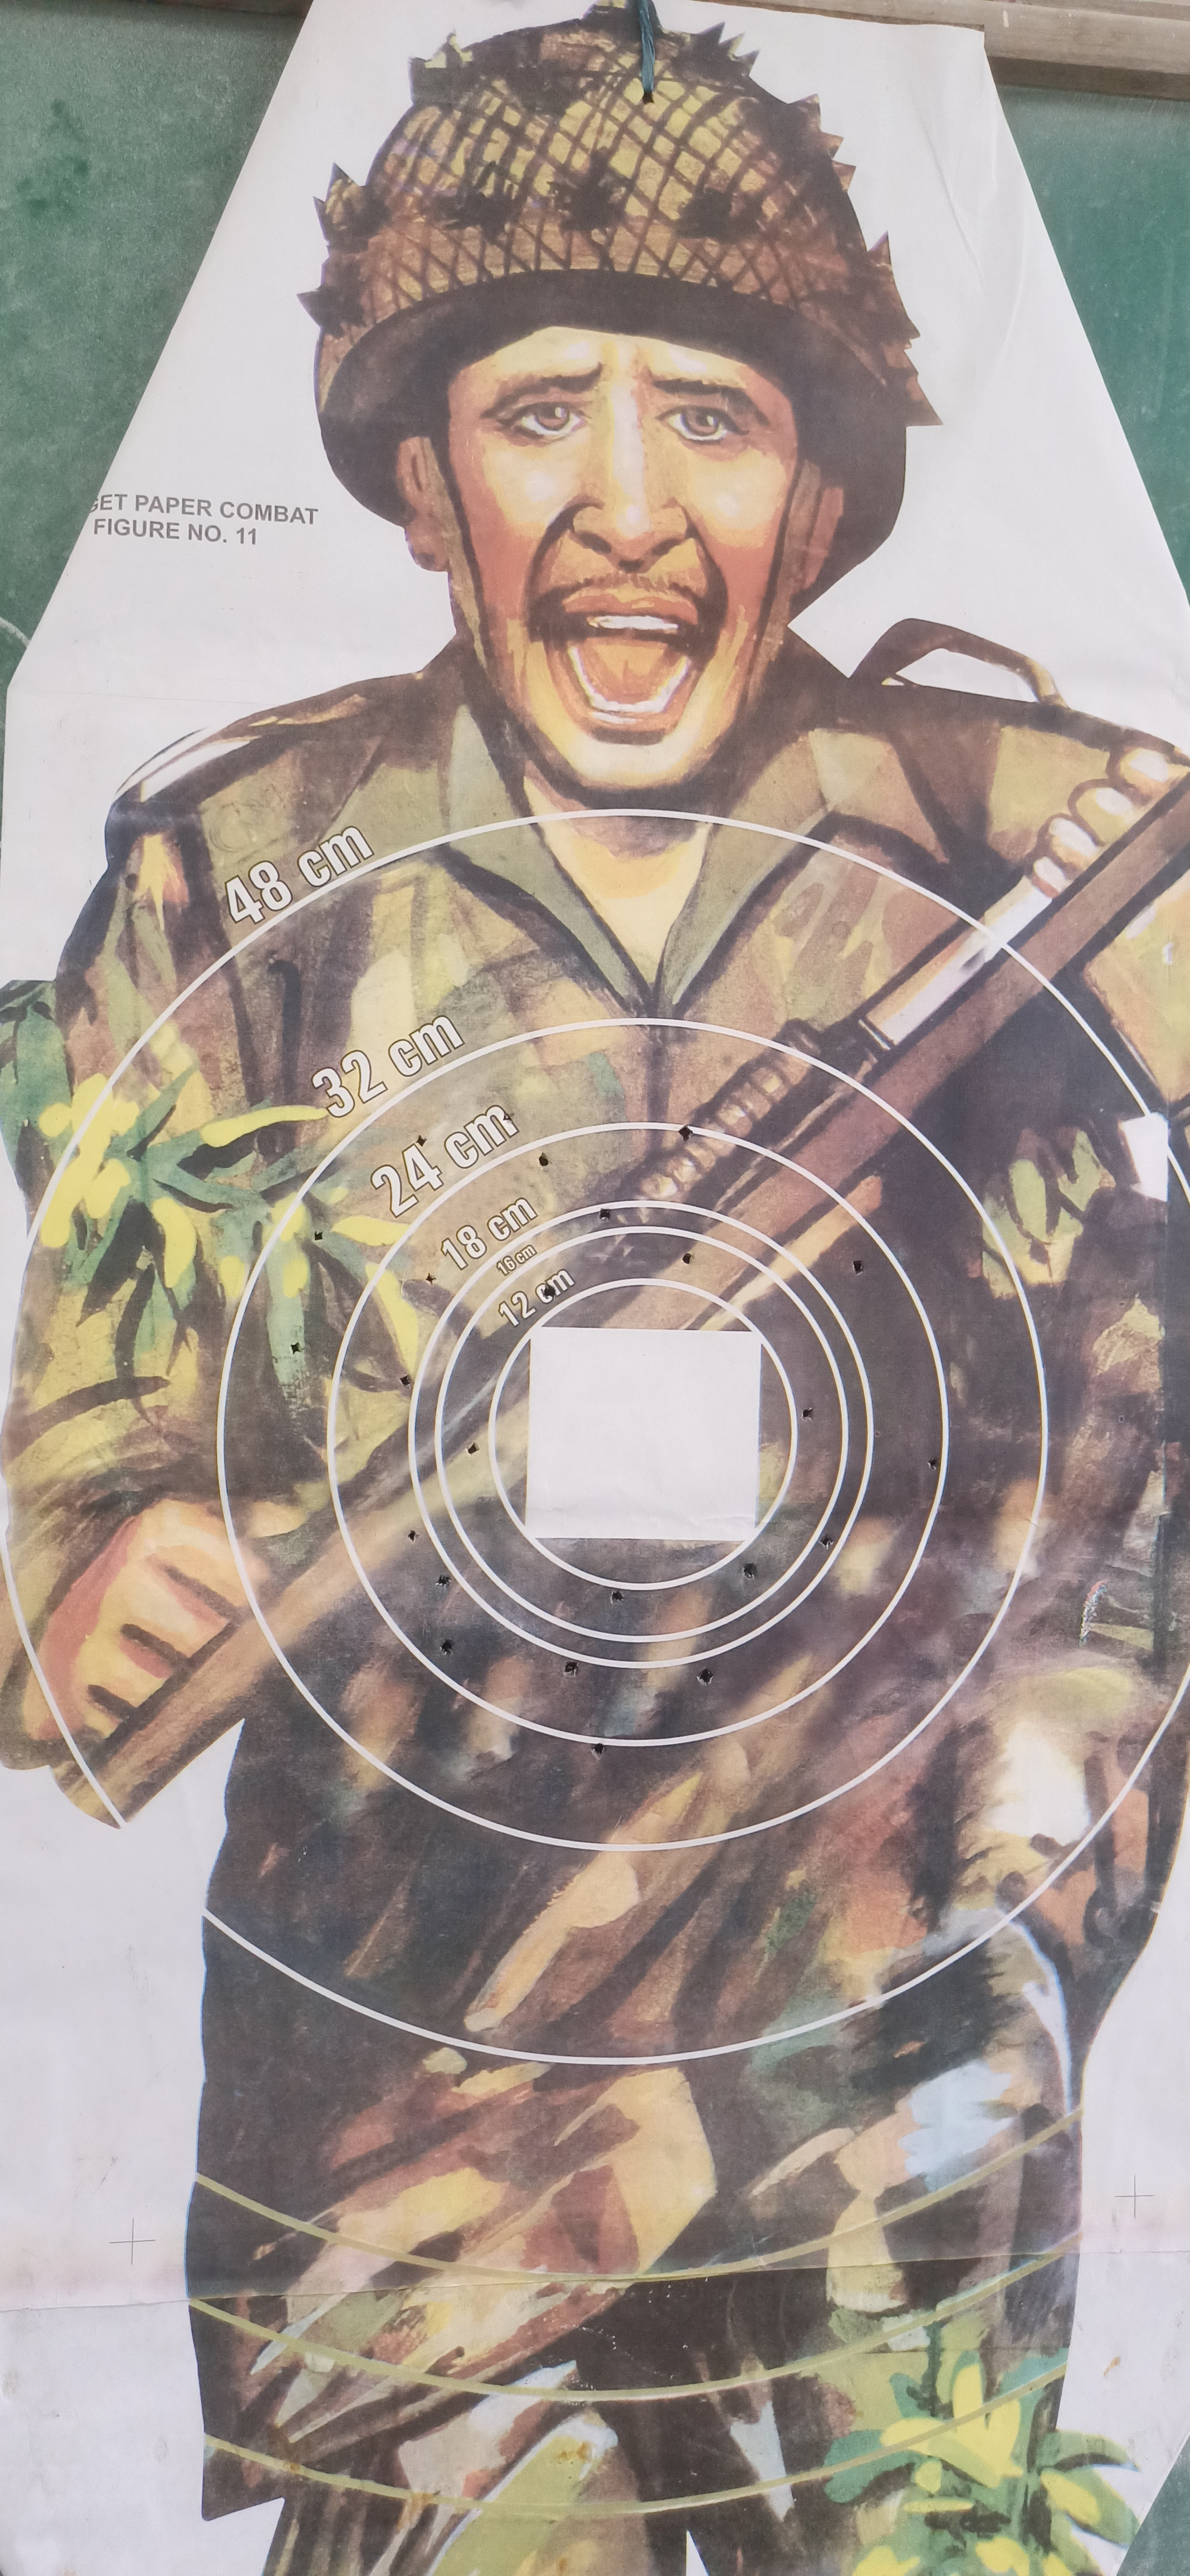bullet hit: (437, 1636, 459, 1659), (740, 1561, 761, 1582), (695, 1666, 715, 1687), (560, 1659, 582, 1679), (676, 1122, 695, 1143), (541, 1278, 559, 1301), (608, 1587, 628, 1607), (588, 1741, 607, 1761), (817, 1531, 835, 1551), (434, 1572, 454, 1590), (464, 1439, 482, 1457), (536, 1150, 552, 1170), (404, 1528, 421, 1544), (925, 1456, 942, 1472), (680, 1250, 697, 1267), (597, 1206, 613, 1222), (398, 1372, 413, 1390), (851, 1258, 866, 1277), (424, 1272, 439, 1288), (414, 1134, 429, 1148), (501, 1109, 516, 1124), (800, 1406, 815, 1421), (289, 1341, 302, 1357), (312, 1229, 325, 1242)
white box: (524, 1327, 761, 1541)
